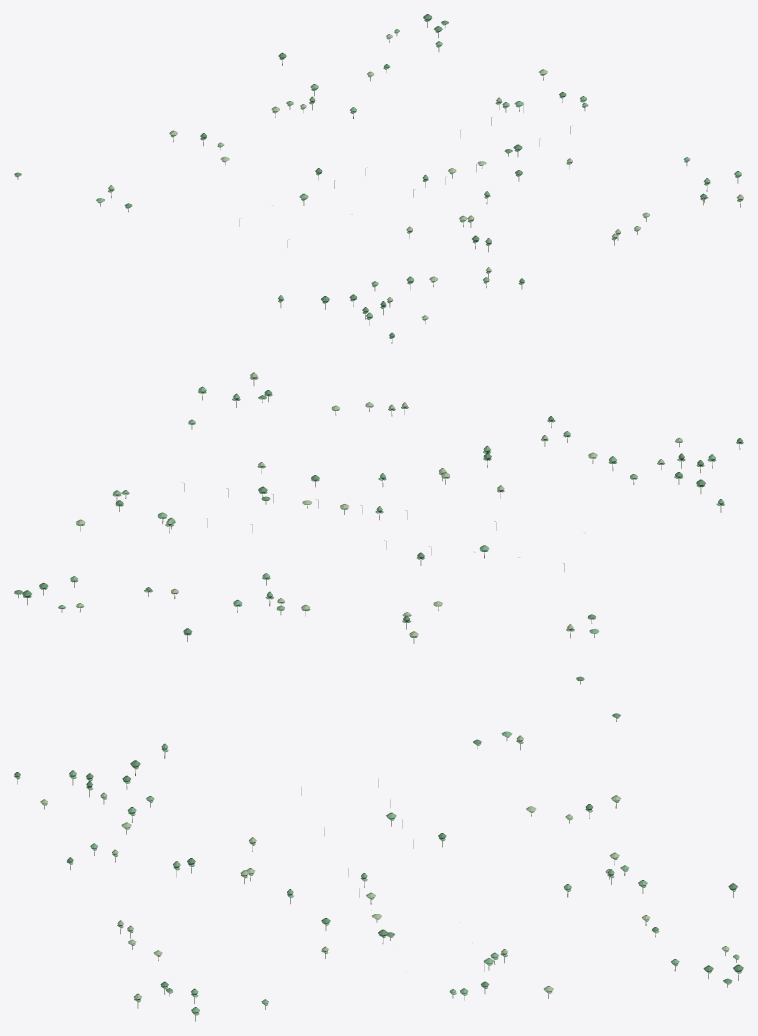
3 renders of one model, top to bottom at view 1: azimuth 30°, elevation 25°; view 2: azimuth 150°, elevation 25°; view 3: azimuth 270°, elevation 25°, orthographic. The views are drawn at different scales.
Parts seen in each view (by area): view 1: Mirpur 11 neighborhood furniture (approximate); view 2: Mirpur 11 neighborhood furniture (approximate); view 3: Mirpur 11 neighborhood furniture (approximate).
Part boxes in pixels (x1=…): Mirpur 11 neighborhood furniture (approximate): x1=14, y1=14, x2=743, y2=343; Mirpur 11 neighborhood furniture (approximate): x1=14, y1=372, x2=743, y2=684; Mirpur 11 neighborhood furniture (approximate): x1=14, y1=713, x2=743, y2=1021.
Bounding box in the file's own units: 505 × 12.32 × 513.
